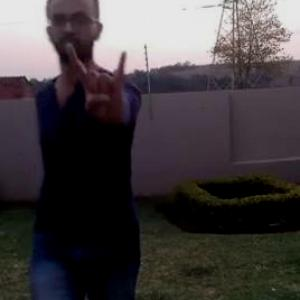takeoff-hand: (64, 39, 134, 122)
